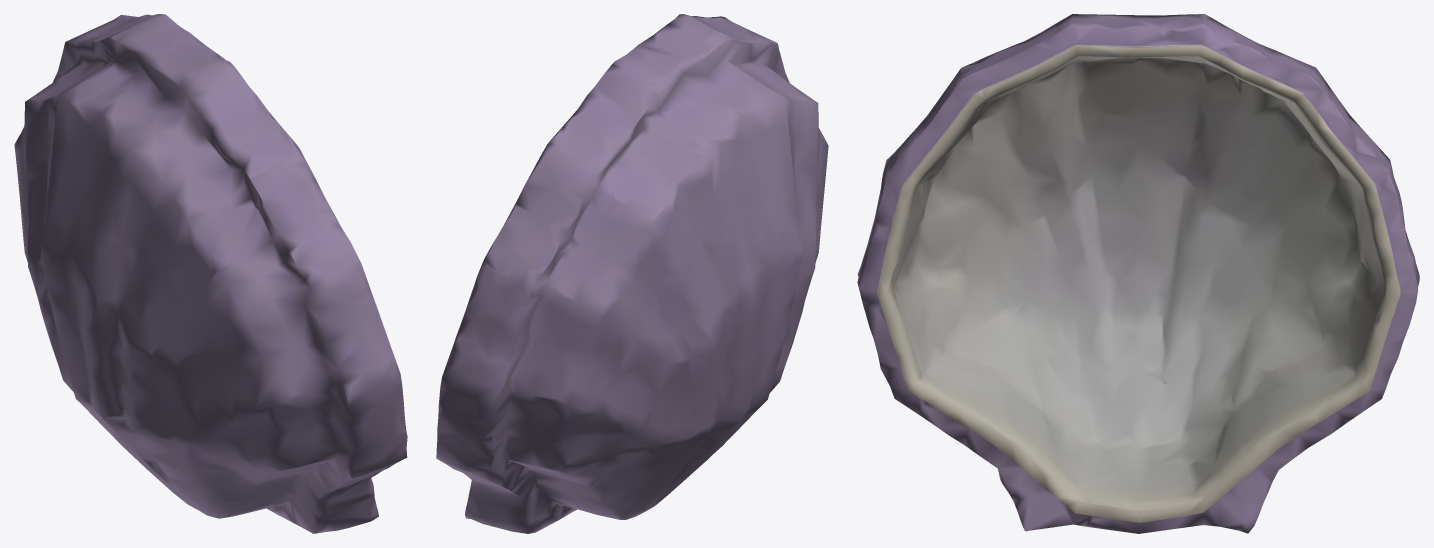
Rendered from sleep+shell.obj.
3 renders of one model, left to right at view 1: azimuth 30°, elevation 25°; view 2: azimuth 150°, elevation 25°; view 3: azimuth 270°, elevation 25°, orthographic. The views are drawn at different scales.
Parts seen in each view (by area): view 1: meshes[0]; view 2: meshes[0]; view 3: meshes[0].
Boxes of the visible parts, box(x1,y1,x2,y2) form: meshes[0]: box(14, 14, 407, 533); meshes[0]: box(436, 14, 828, 533); meshes[0]: box(857, 14, 1419, 533).
Size of the model in its own units: 0.5028 by 0.9159 by 1.
Materials: 1 (1 with a texture image).
